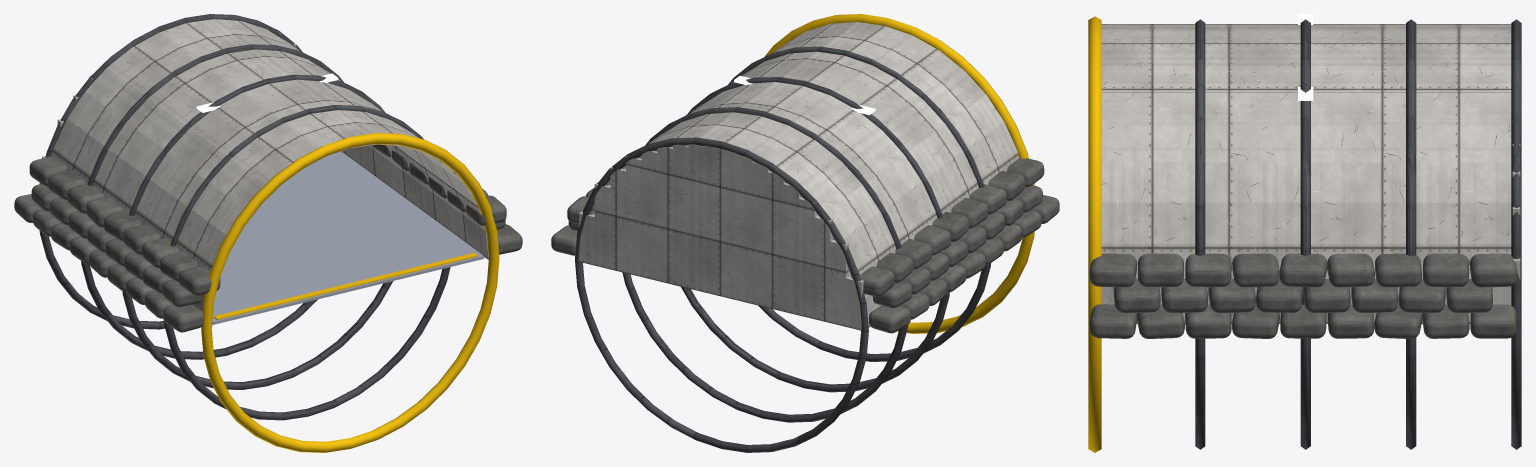
File: RoverGarage.glb
The picture shows the model from 3 angles, left to right: view 1: azimuth 30°, elevation 25°; view 2: azimuth 150°, elevation 25°; view 3: azimuth 270°, elevation 25°; orthographic projection. The views are drawn at different scales.
Visible parts, largest first — view 1: RoverGarage_Mesh; view 2: RoverGarage_Mesh; view 3: RoverGarage_Mesh.
Part boxes in pixels (<box>): RoverGarage_Mesh: <box>14,14,522,452</box>; RoverGarage_Mesh: <box>551,14,1059,452</box>; RoverGarage_Mesh: <box>1088,14,1521,452</box>.
Size of the model in its own units: 6.68 by 5.72 by 5.65.
9 materials, 3 textured.
